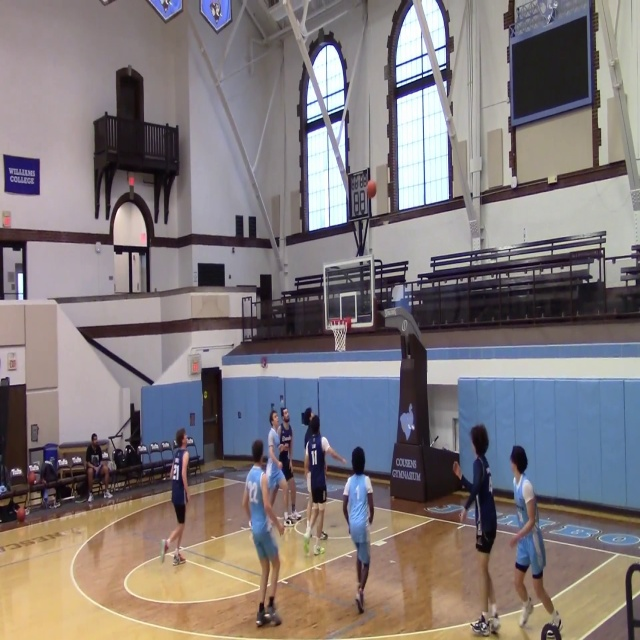Basketball: (366, 179, 377, 198), (27, 472, 36, 484)
